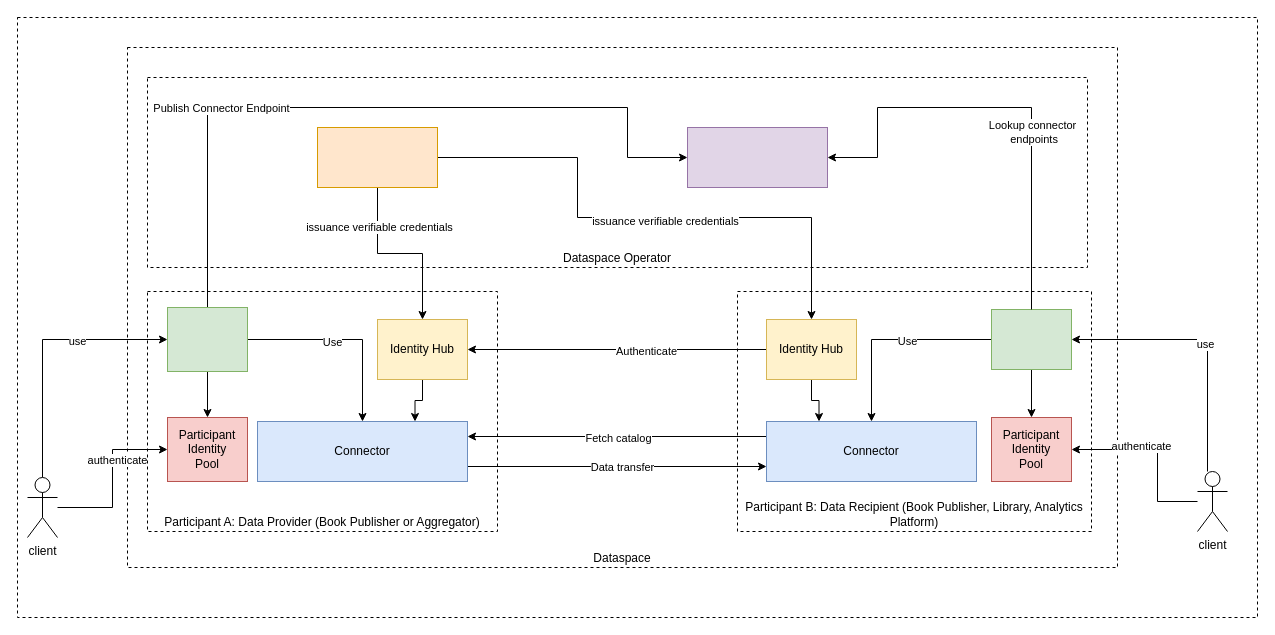
Some shapes in this 1275 by 635 pixel diagram are drawn without their labels. The centre of each missing label's shape, as x and y in pixels:
"Connector Endpoint Discovery Service" belongs at pixel 757 157.
"Data Provider Application (API Only)" belongs at pixel 207 339.
"Data Recipient Application (API Only)" belongs at pixel 1031 339.
"DID Issuer" belongs at pixel 377 157.
